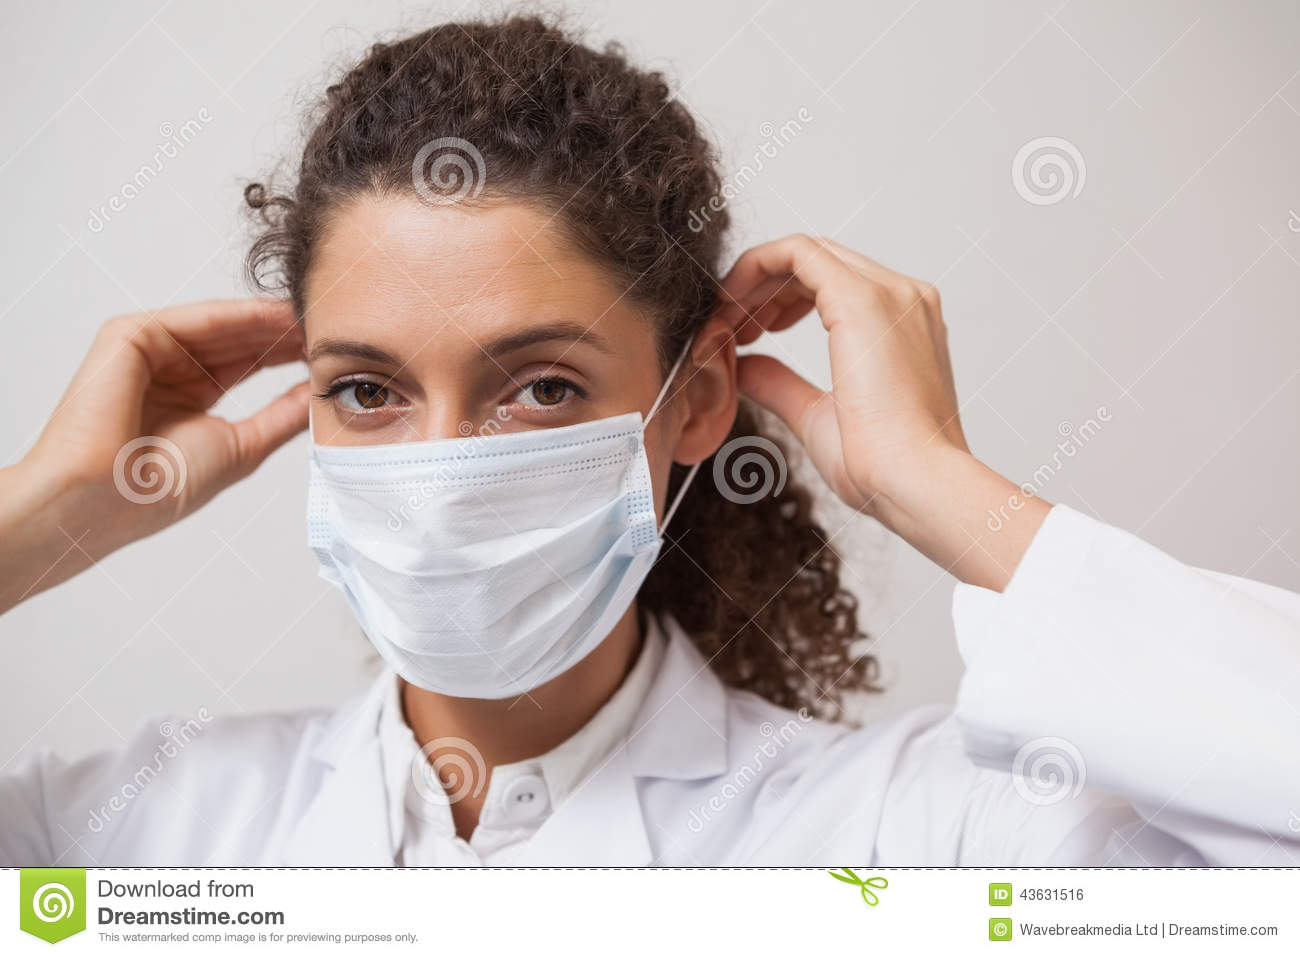mask: (281, 427, 675, 704)
